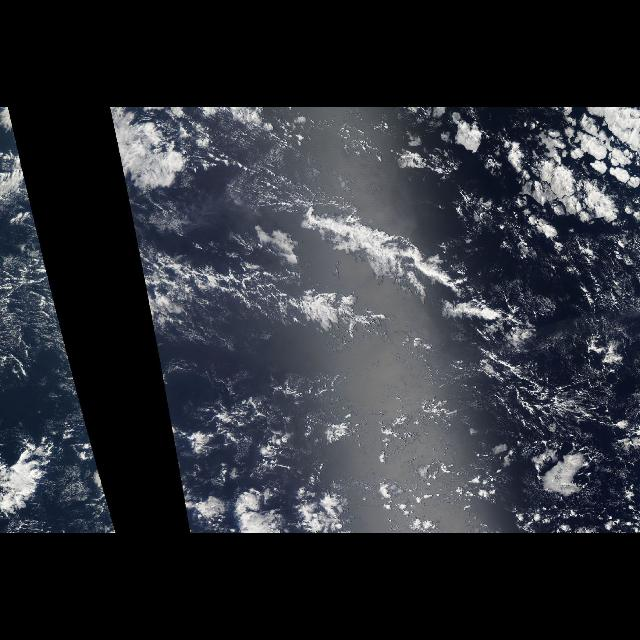Fish: (132, 201, 518, 351), (464, 348, 624, 452)
Flower: (358, 108, 640, 424), (178, 469, 370, 533), (0, 426, 84, 532), (110, 108, 198, 196), (0, 108, 30, 196)
Sugar: (137, 256, 236, 378), (218, 113, 322, 223), (3, 256, 75, 378)
